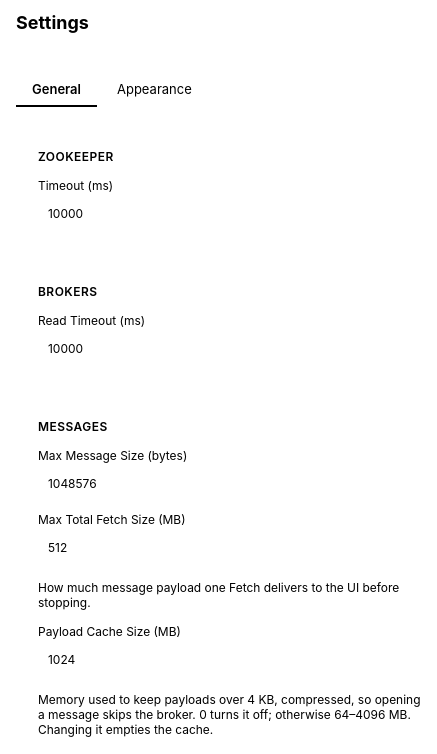
Test: SettingsPanel payload cache size › raises a value below the minimum to it, and shows that
Replace the text in the number field labelled "Payload Cache Size (MB)" with "10" at coordinates (168, 660), box 38,645 -> 298,674
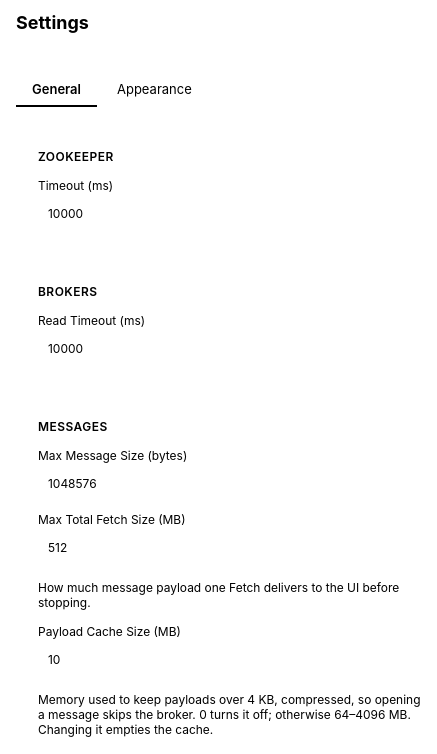
Leave the number field labelled "Payload Cache Size (MB)", box 38,645 -> 298,674
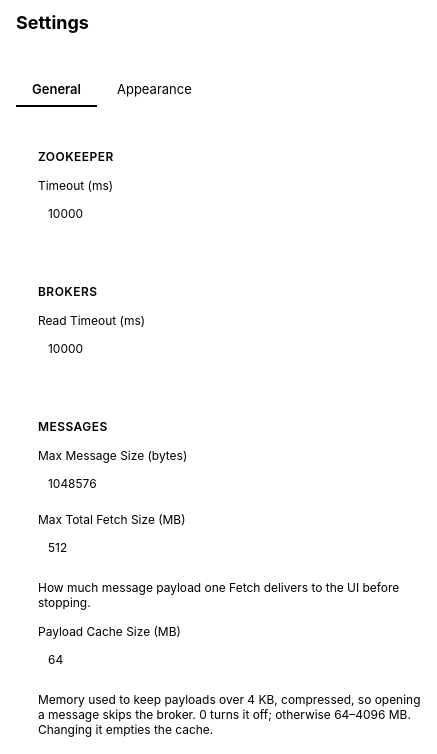
Check: the number field labelled "Payload Cache Size (MB)" holds "64", box 38,645 -> 298,674
